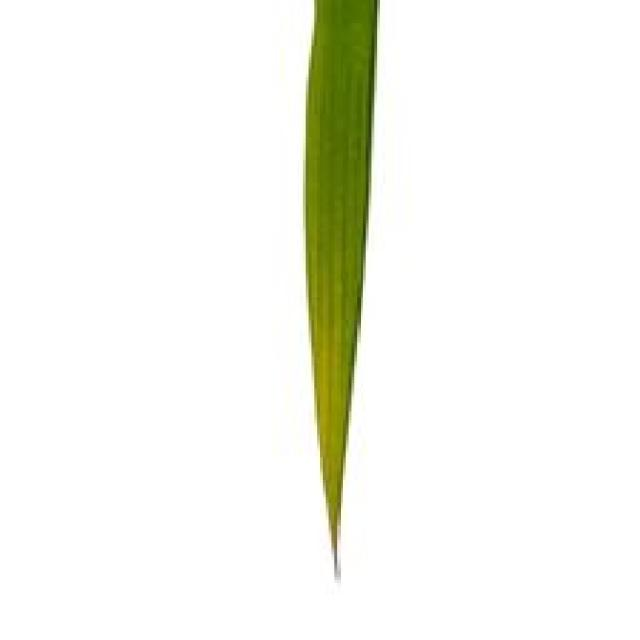Rice___Healthy_Rice_Plant: (302, 0, 379, 583)
